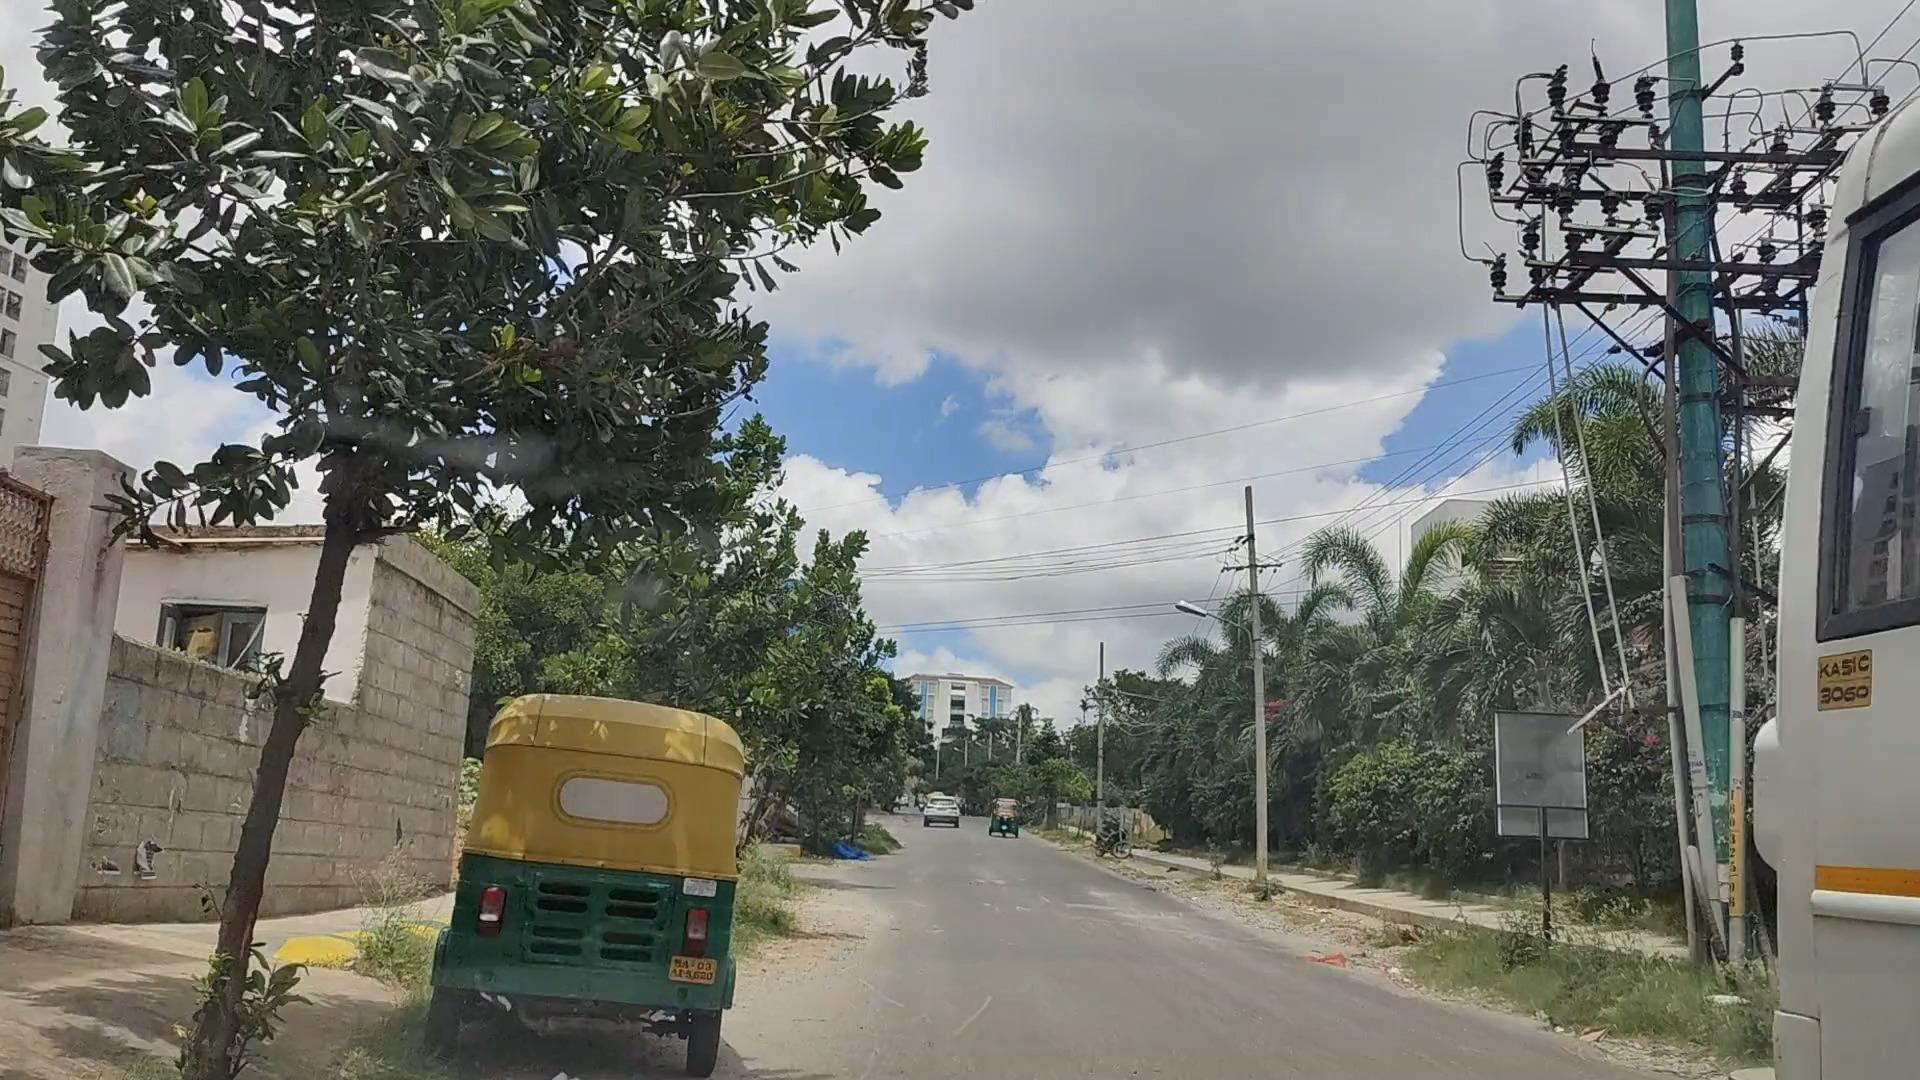RoadDamages: (1034, 866, 1196, 957)
